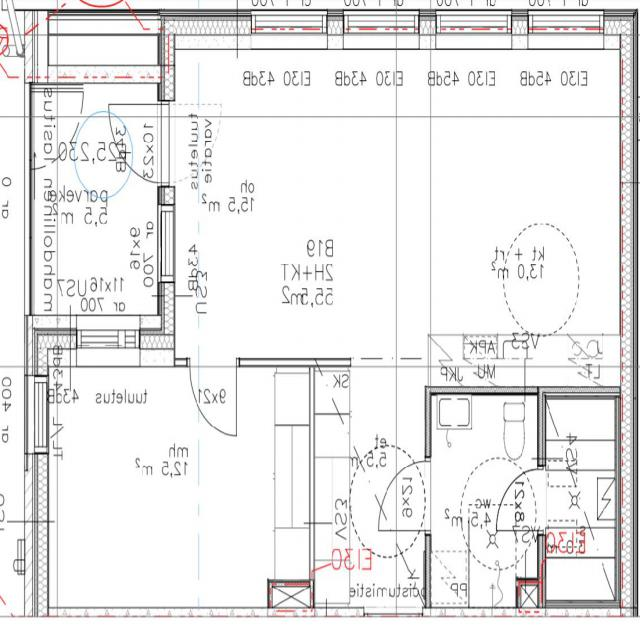door: (108, 104, 170, 182), (378, 459, 431, 530), (190, 358, 238, 435), (497, 469, 546, 530)
